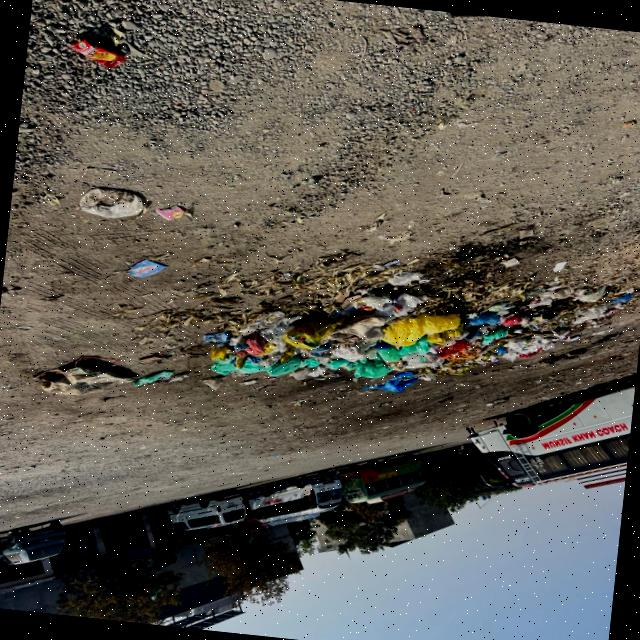garbage: (197, 240, 620, 420)
